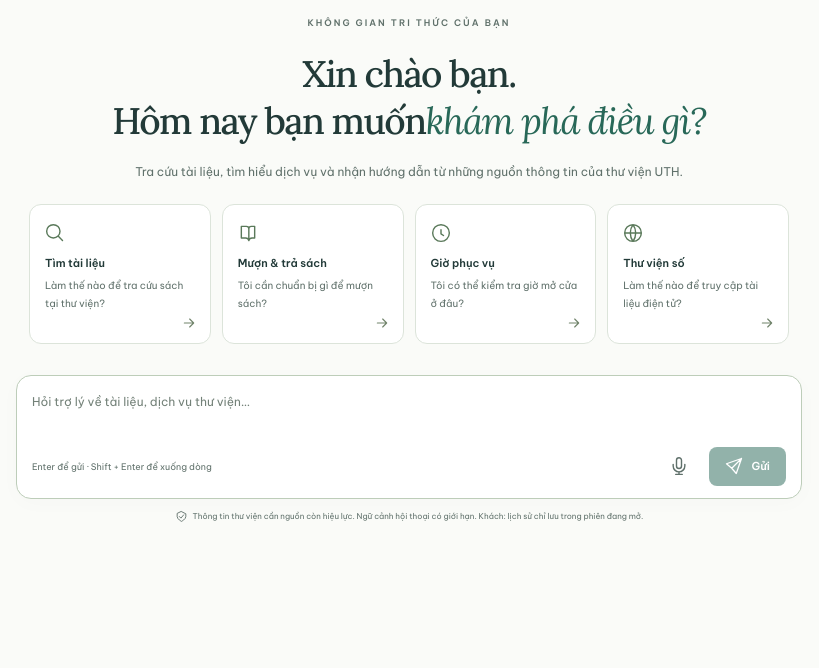
it: reader workflows › sends bounded plain guest context without source metadata or identity
The image size is (819, 668).
Type "Tìm sách Python" into the text box named "Câu hỏi của bạn" at (409, 413), box x1=32 y1=389 x2=786 y2=436
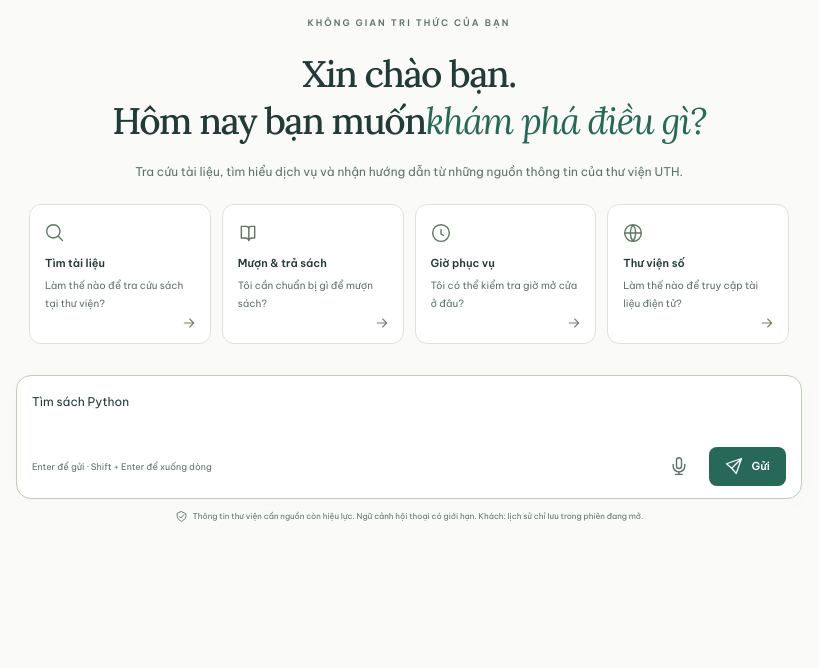
Submit the form named "Gửi câu hỏi", box x1=16 y1=375 x2=802 y2=499
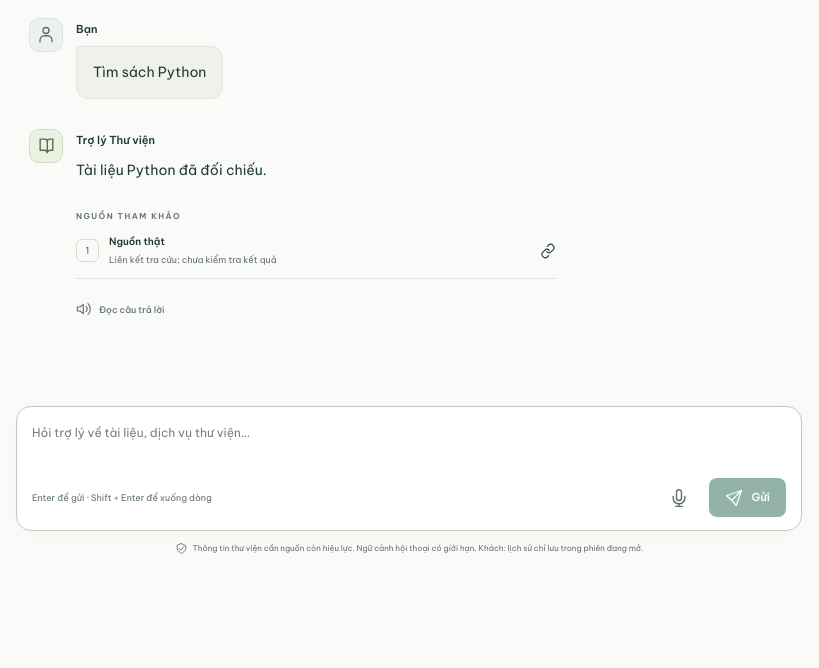
Expected: the text "Tài liệu Python đã đối chiếu." is shown, x1=76 y1=161 x2=267 y2=179
Type "Có cuốn nào cho người mới?" into the text box named "Câu hỏi của bạn" at (409, 444), box x1=32 y1=420 x2=786 y2=468
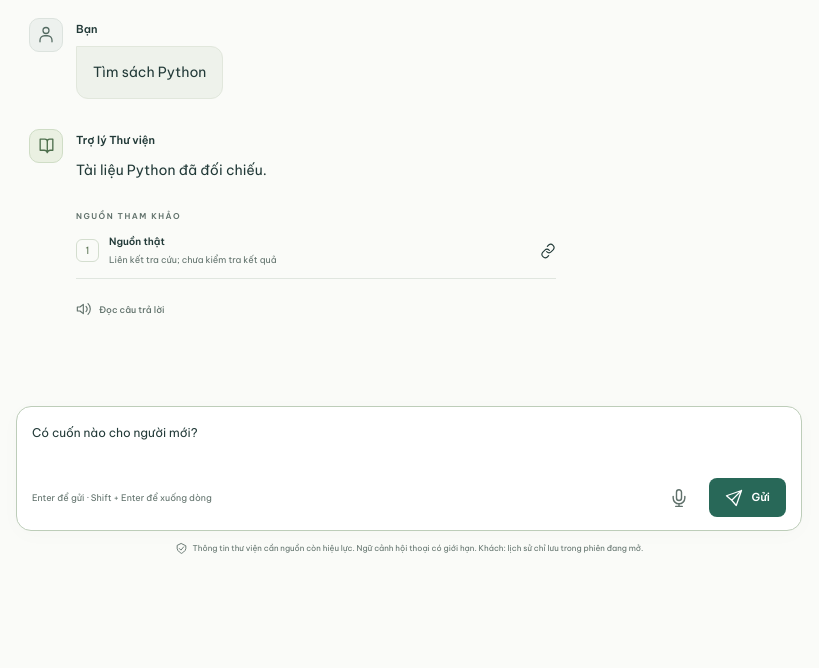
Submit the form named "Gửi câu hỏi", box x1=16 y1=406 x2=802 y2=531
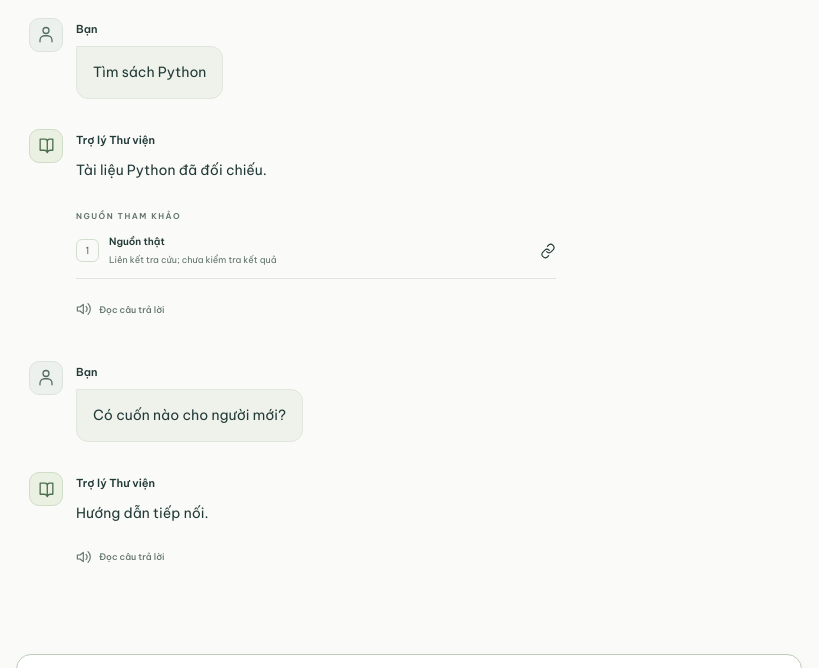
Expected: the text "Hướng dẫn tiếp nối." is shown, x1=76 y1=504 x2=208 y2=522
